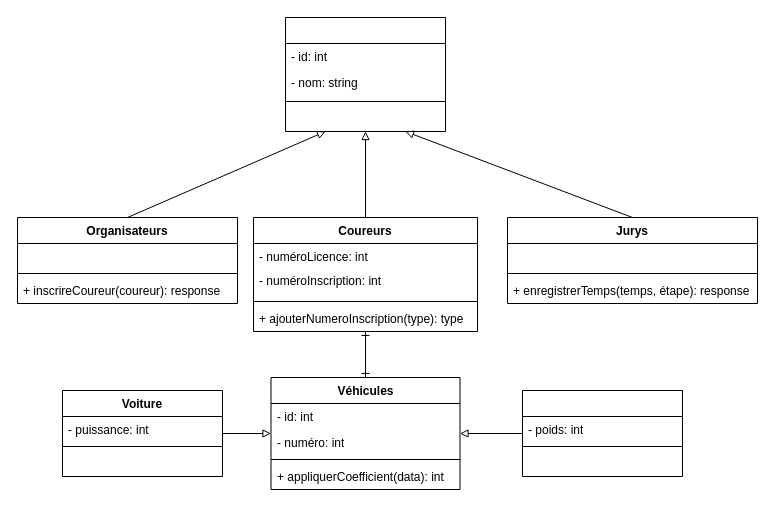
Image size: 775x510. Some labels were removed from this diagram. Here are the shapes that lost their labels. From the top down, the box of each, then its label:
(284, 16, 446, 132): Personnes
(522, 390, 682, 476): Camion
